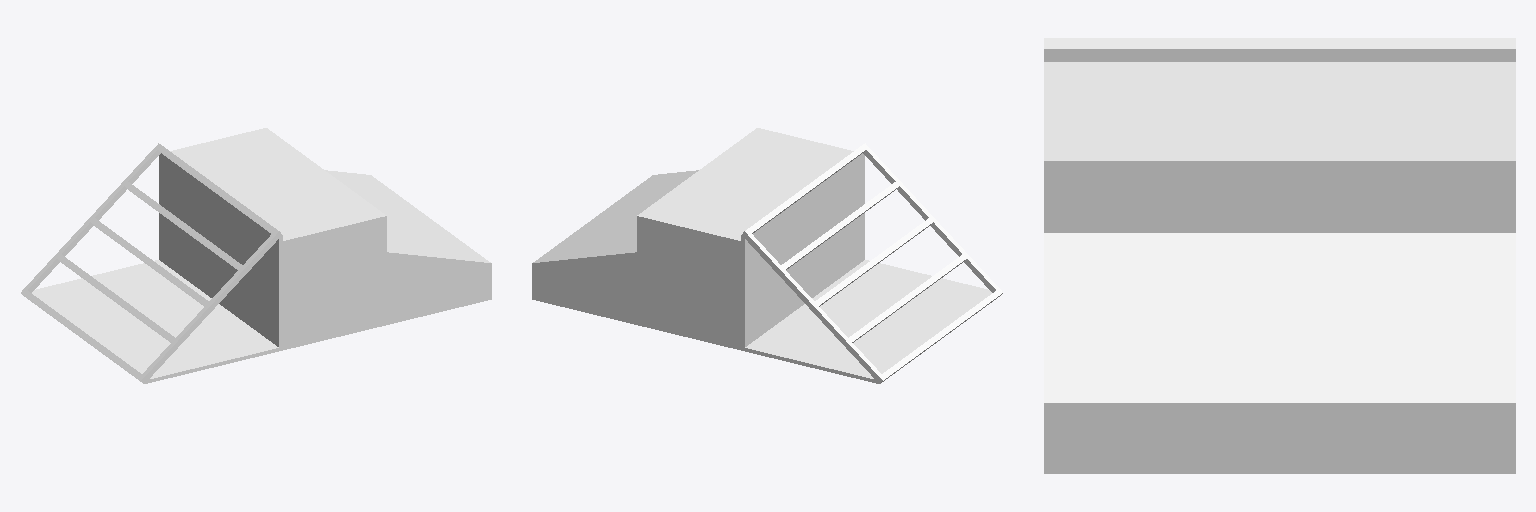
URDF robot description (103-601-filed-small):
<?xml version="1.0" encoding="utf-8"?>
<!-- This URDF was automatically created by SolidWorks to URDF Exporter! Originally created by [author] ([email redacted]) 
     Commit Version: 1.6.0-4-g7f85cfe  Build Version: 1.6.7995.38578
     For more information, please see http://wiki.ros.org/sw_urdf_exporter -->
<robot
  name="103-601-filed-small">
  <link
    name="base_link">
    <inertial>
      <origin
        xyz="0.38171 -7.1054E-15 0.24134"
        rpy="0 0 0" />
      <mass
        value="756.9" />
      <inertia
        ixx="44.114"
        ixy="-2.08"
        ixz="-2.1324"
        iyy="46.025"
        iyz="-4.9621E-15"
        izz="50.776" />
    </inertial>
    <visual>
      <origin
        xyz="0 0 0"
        rpy="0 0 0" />
      <geometry>
        <mesh
          filename="package://103-601-filed-small/meshes/base_link.STL" />
      </geometry>
      <material
        name="">
        <color
          rgba="1 1 1 1" />
      </material>
    </visual>
    <collision>
      <origin
        xyz="0 0 0"
        rpy="0 0 0" />
      <geometry>
        <mesh
          filename="package://103-601-filed-small/meshes/base_link.STL" />
      </geometry>
    </collision>
  </link>
</robot>

--- Facts derived from the render (not from the file) ---
3 views of the same robot in one strip: view 1: azimuth 30°, elevation 25°; view 2: azimuth 150°, elevation 25°; view 3: azimuth 270°, elevation 25° (orthographic).
Robot: 103-601-filed-small — 1 links, 0 joints (none); root link base_link; default pose: every joint at zero.
Visible links, largest first — view 1: base_link; view 2: base_link; view 3: base_link.
Boxes of the visible links, x1=… form: base_link: x1=21, y1=128, x2=491, y2=383; base_link: x1=532, y1=128, x2=1002, y2=383; base_link: x1=1044, y1=38, x2=1515, y2=473.
Bounding box of the posed robot: 2.01 × 1.2 × 0.6594 m (x, y, z).
Meshes: 1 distinct files referenced, 1 mesh visuals loaded (1 binary STL).